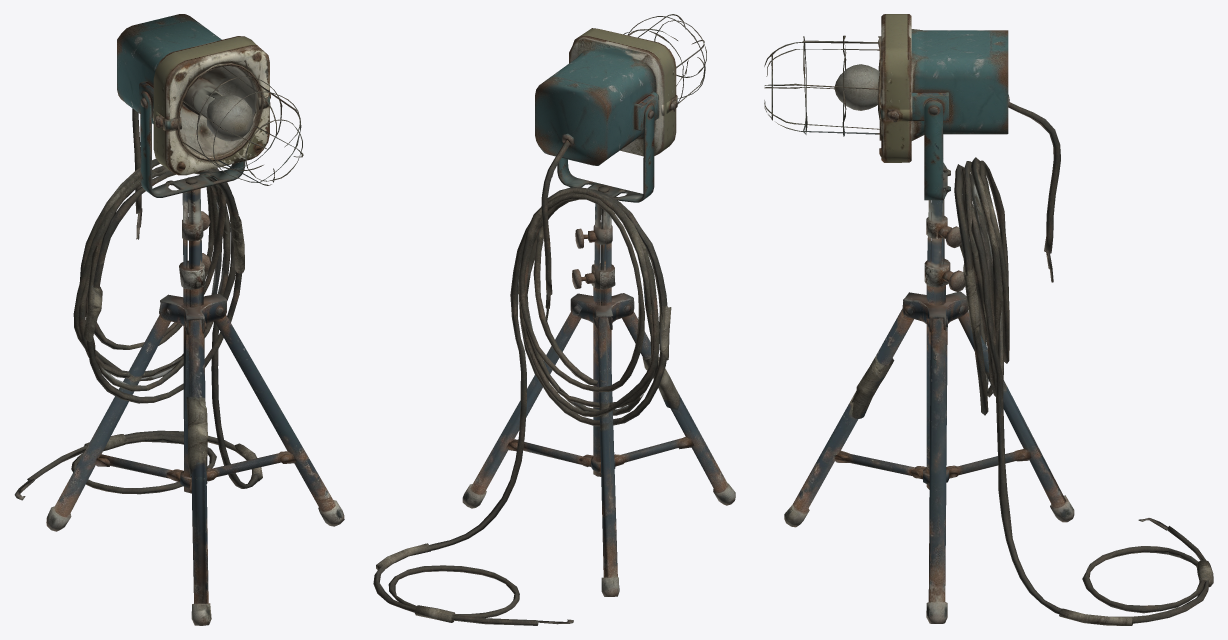
The model's file is silo81_floorlamp.glb.
The picture shows the model from 3 angles, left to right: view 1: azimuth 30°, elevation 25°; view 2: azimuth 150°, elevation 25°; view 3: azimuth 270°, elevation 25°; orthographic projection. The views are drawn at different scales.
Size of the model in its own units: 0.4561 by 0.9526 by 0.7393.
1 material, 1 textured.
